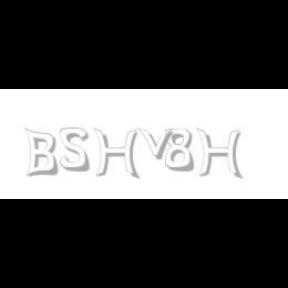8: (164, 128, 194, 172)
B: (24, 128, 58, 178)
H: (93, 128, 139, 180), (196, 128, 242, 180)
S: (60, 128, 91, 172)
v: (137, 128, 177, 160)
